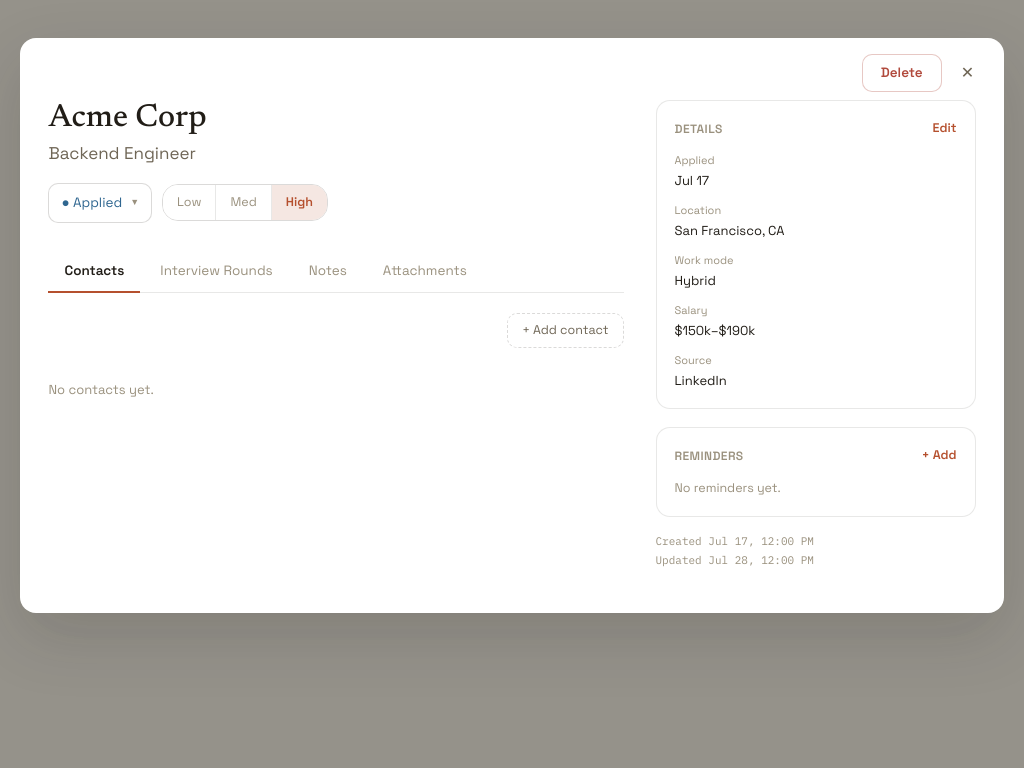
ApplicationDetailModal › shows a toast and stays in edit mode when saving fails
The image size is (1024, 768).
Expected: the heading "Acme Corp" is shown, [48, 102, 206, 134]
Click the button "Edit" at (945, 129), box [933, 119, 956, 138]
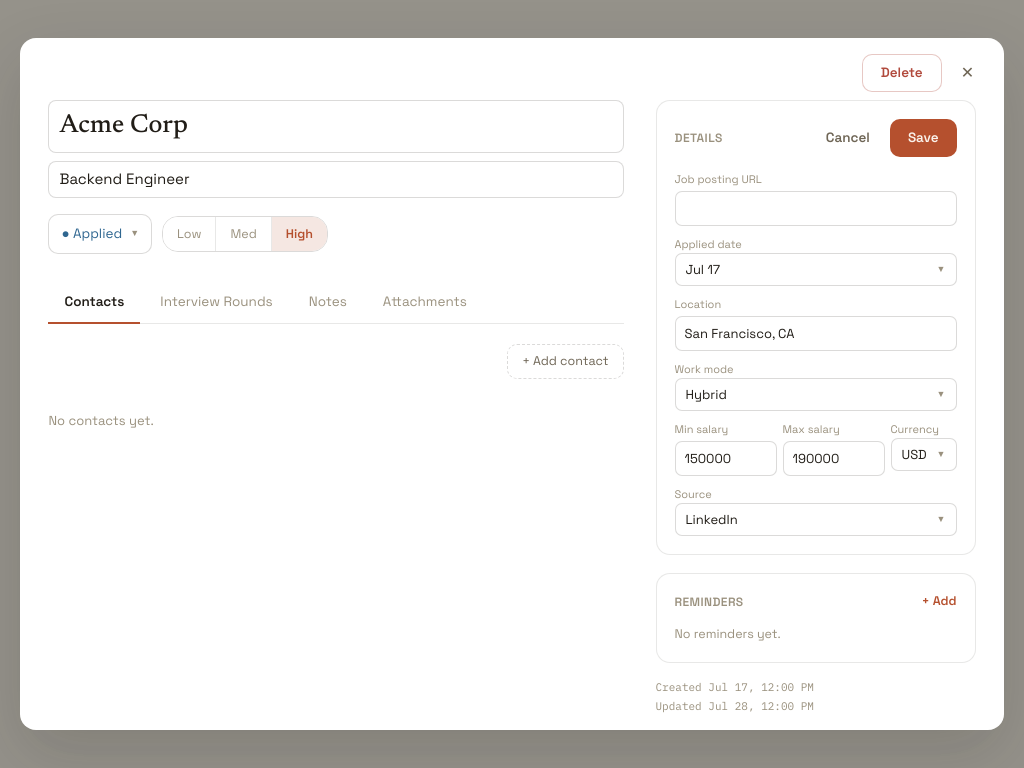
Click the button "Save" at (923, 138), box [890, 119, 956, 157]
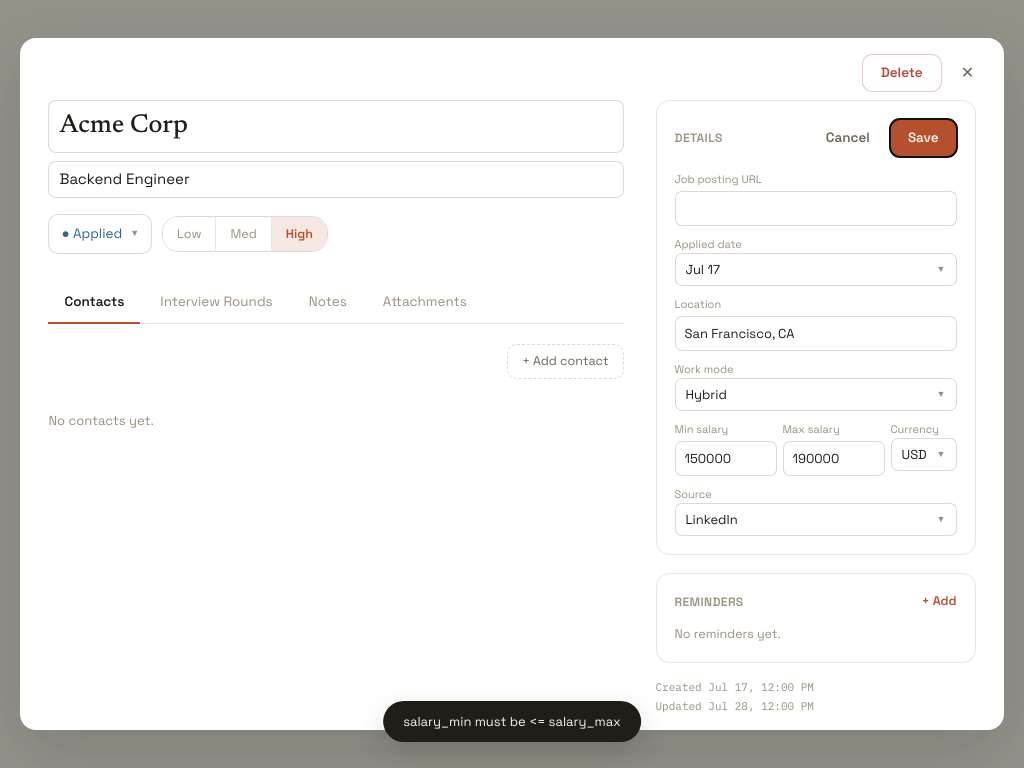
Expected: the field named "Company" is shown, [48, 100, 624, 153]
Expected: the message reads "salary_min must be <= salary_max", [403, 712, 621, 730]
